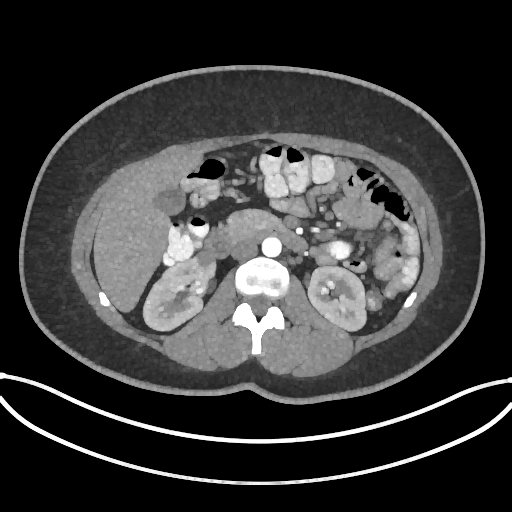Lesion: (194, 248, 215, 270)
